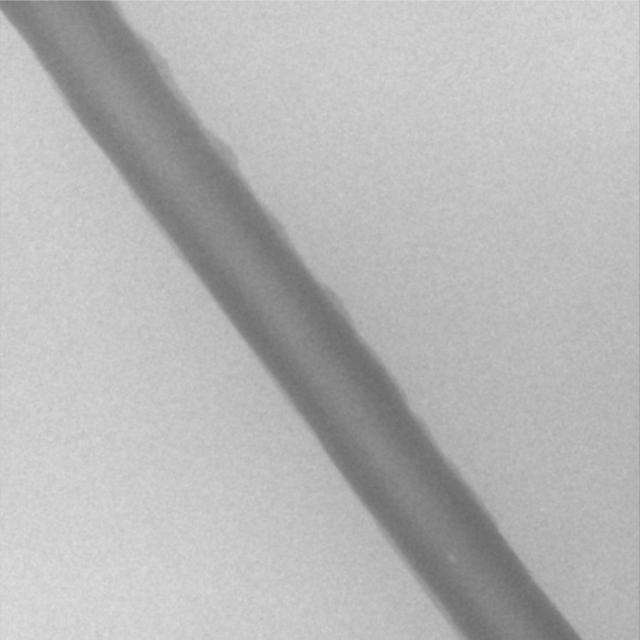air hole: (445, 553, 455, 562)
